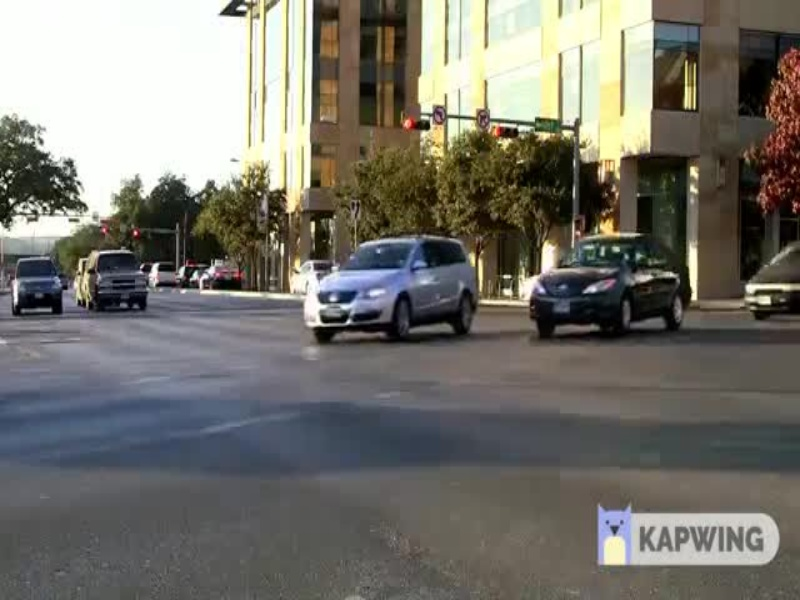car: (515, 227, 698, 342)
suv: (75, 242, 153, 316), (14, 248, 69, 320)
van: (296, 235, 487, 349)
